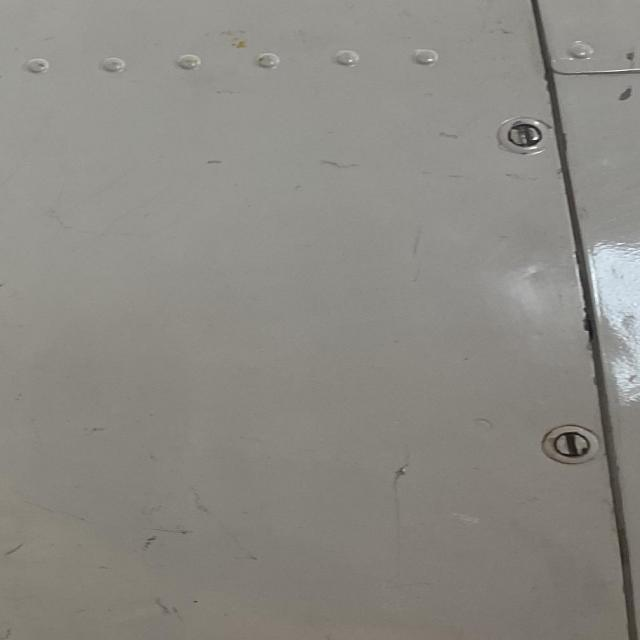Paint-off: (608, 85, 640, 103)
